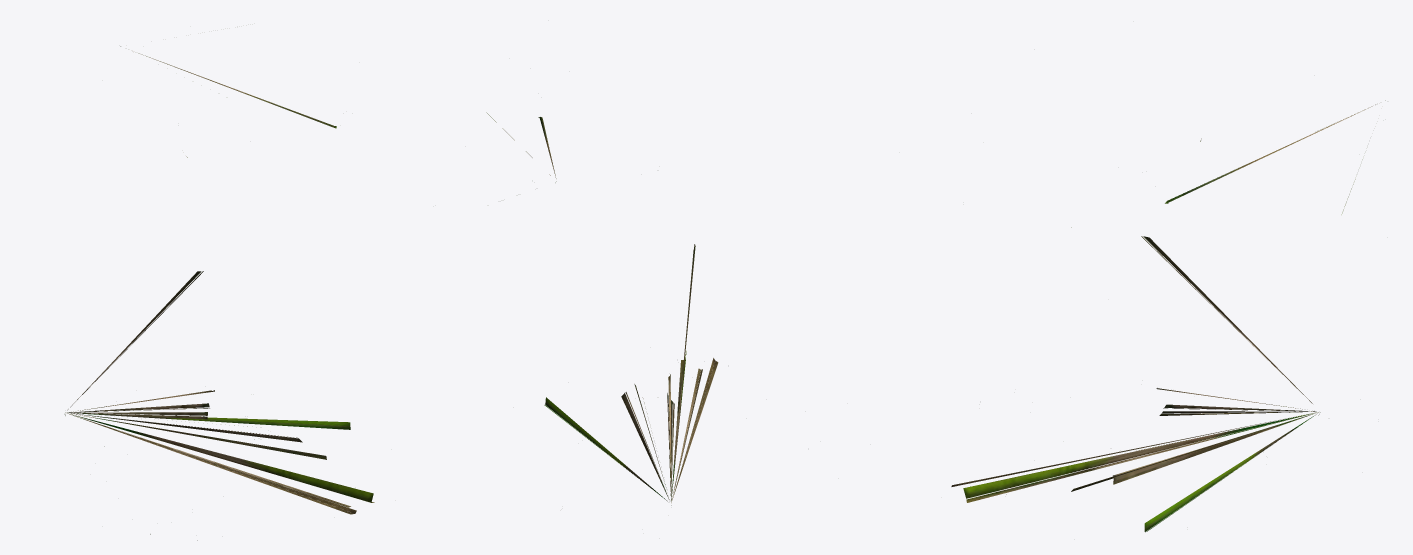
The model's file is nature_dead_tree_02.glb.
3 renders of one model, left to right at view 1: azimuth 30°, elevation 25°; view 2: azimuth 150°, elevation 25°; view 3: azimuth 270°, elevation 25°, orthographic. The views are drawn at different scales.
Parts seen in each view (by area): view 1: geometry_0; view 2: geometry_0; view 3: geometry_0.
Boxes of the visible parts, <box> form: geometry_0: <box>64,46,374,540</box>; geometry_0: <box>486,112,718,505</box>; geometry_0: <box>951,100,1385,532</box>.
Size of the model in its own units: 0.7003 by 0.8775 by 0.8635.
Materials: 1 (1 with a texture image).
